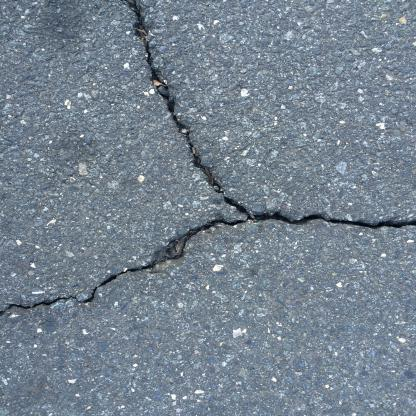Cracks: (0, 207, 415, 329), (122, 1, 266, 227)
